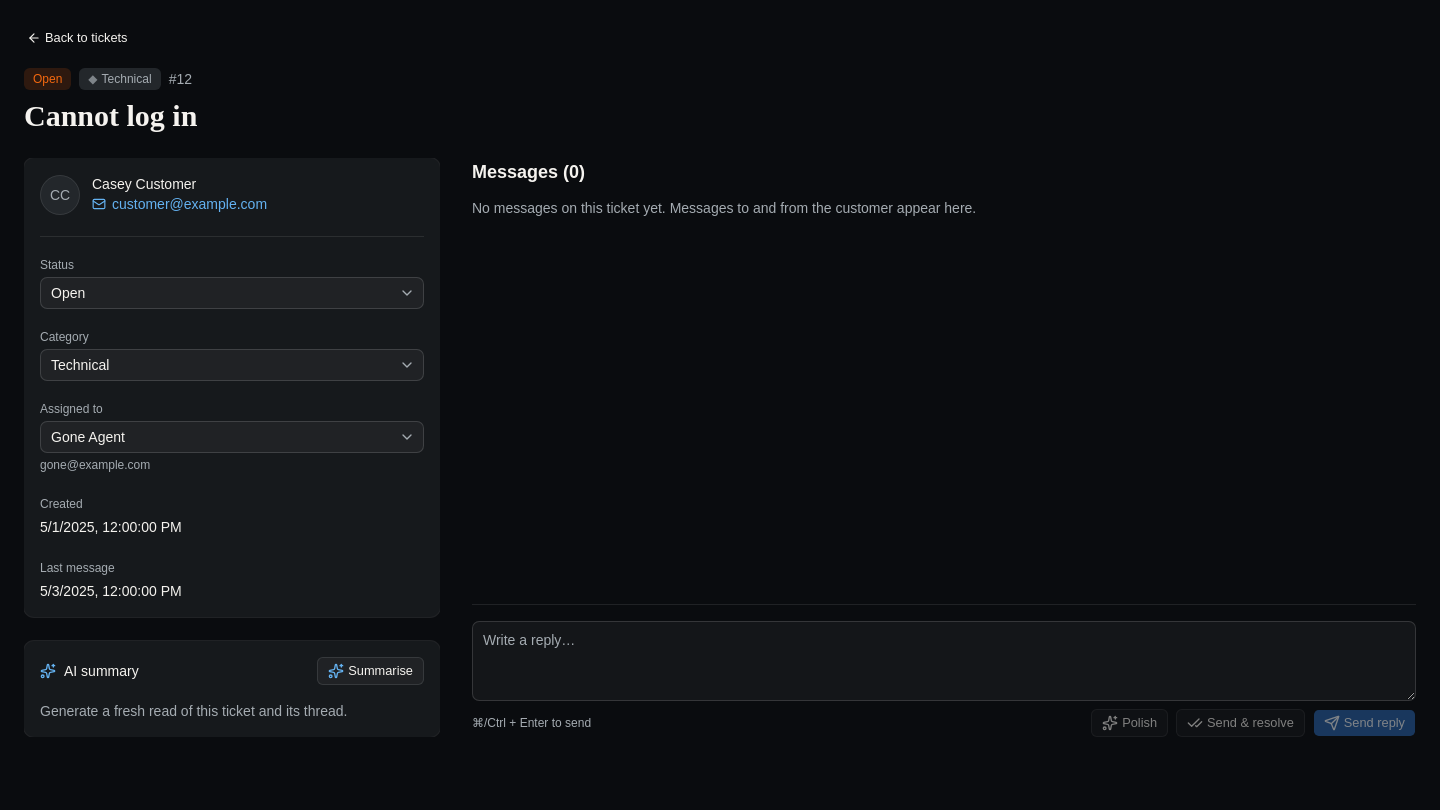
Test: TicketDetailPage assignment › still names an assignee who has left the roster
Expected: the heading "Cannot log in" is shown, [24, 99, 197, 132]
What coordinates should you click on to do the following:
click the dropdown named "Assigned to"
I would click on:
 (88, 437)
Its box is [40, 421, 424, 453].
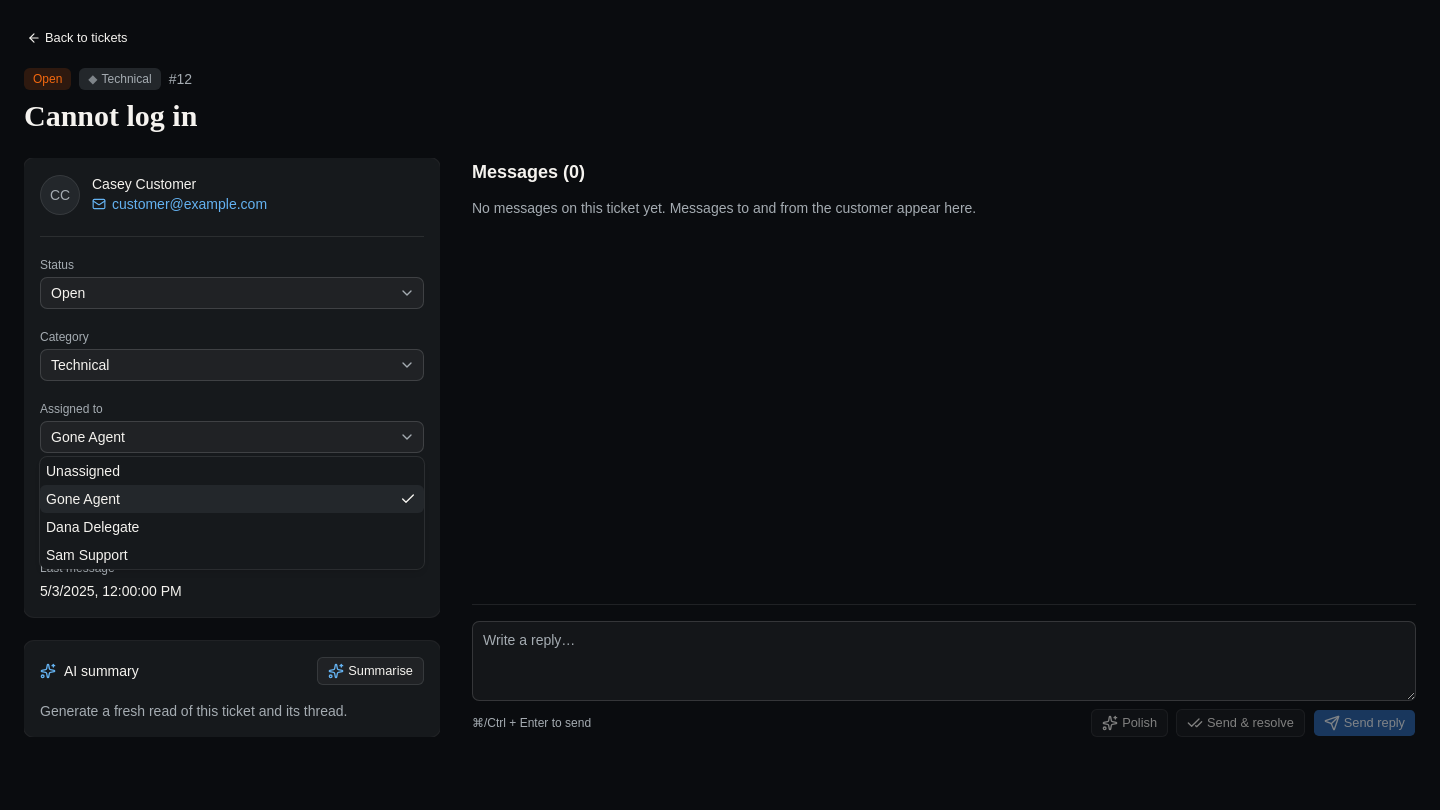
Expected: the option "Gone Agent" is shown, [40, 485, 424, 513]
